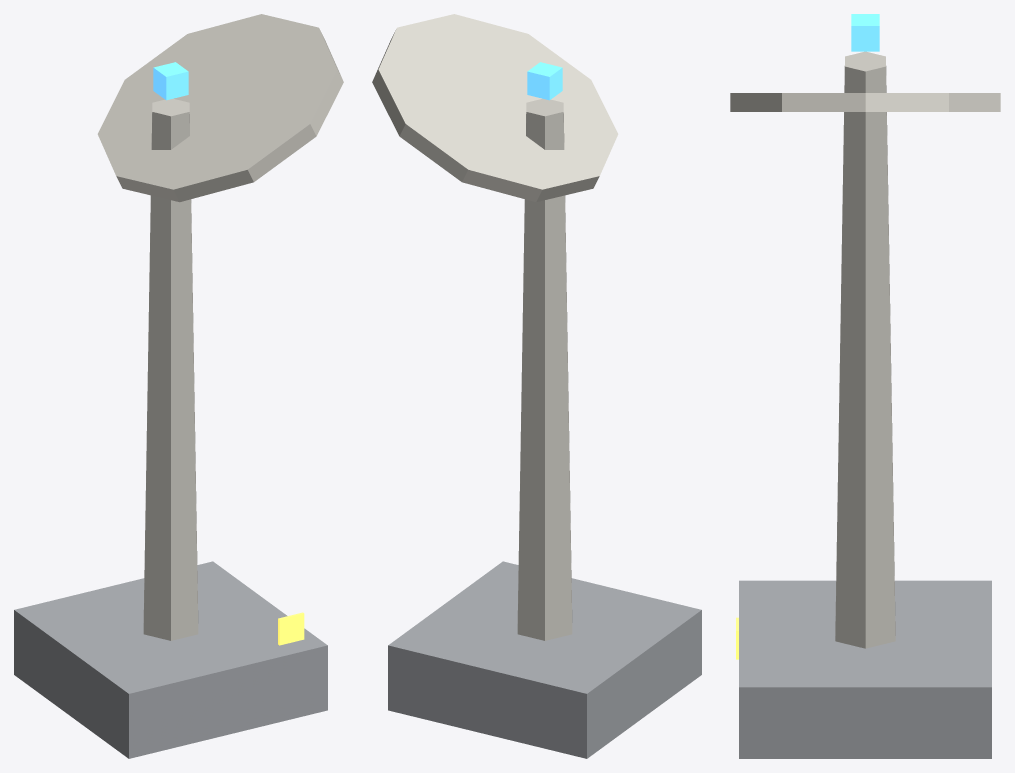
The model's file is RelayNode.glb.
3 renders of one model, left to right at view 1: azimuth 30°, elevation 25°; view 2: azimuth 150°, elevation 25°; view 3: azimuth 270°, elevation 25°, orthographic. The views are drawn at different scales.
Parts seen in each view (by area): view 1: RelayNode; view 2: RelayNode; view 3: RelayNode.
Boxes of the visible parts, x1,y1,x2,y2 form: RelayNode: [14, 14, 343, 758]; RelayNode: [372, 14, 701, 758]; RelayNode: [730, 14, 1000, 758].
Bounding box in the file's own units: 2.04 × 4.83 × 1.71.
